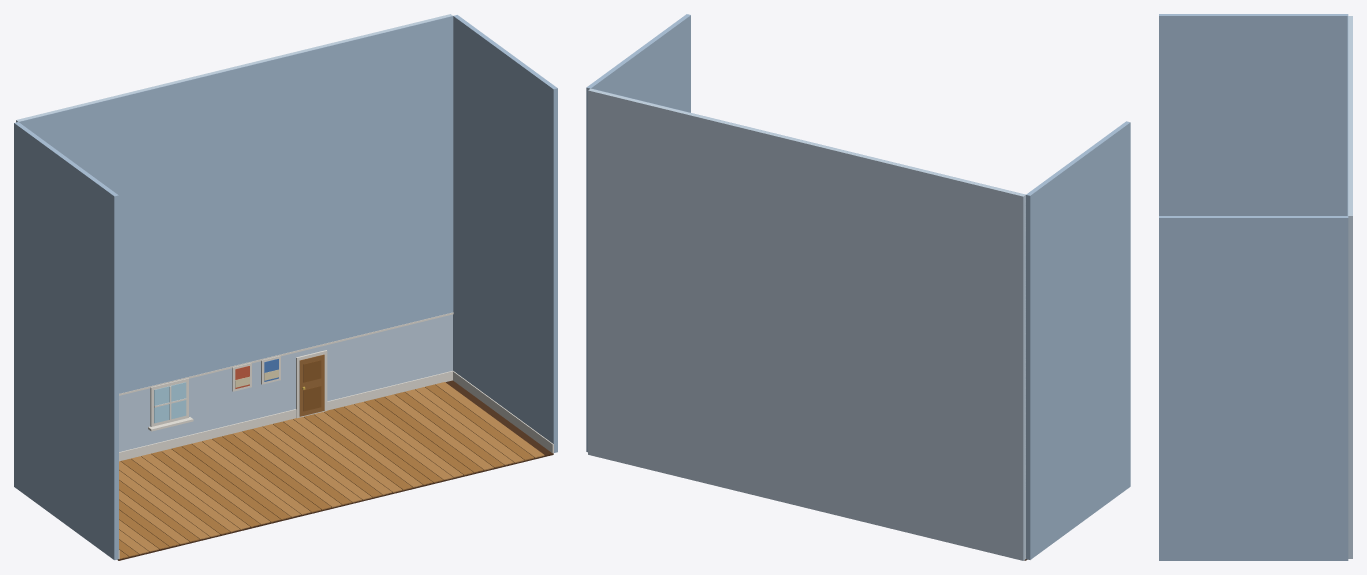
Rendered from room_azul_wood.glb.
The picture shows the model from 3 angles, left to right: view 1: azimuth 30°, elevation 25°; view 2: azimuth 150°, elevation 25°; view 3: azimuth 270°, elevation 25°; orthographic projection. The views are drawn at different scales.
Parts seen in each view (by area): view 1: room; view 2: room; view 3: room.
Boxes of the visible parts, x1,y1,x2,y2 form: room: [14, 14, 557, 560]; room: [586, 14, 1130, 560]; room: [1159, 14, 1352, 560].
Bounding box in the file's own units: 30.6 × 24.11 × 12.3.
